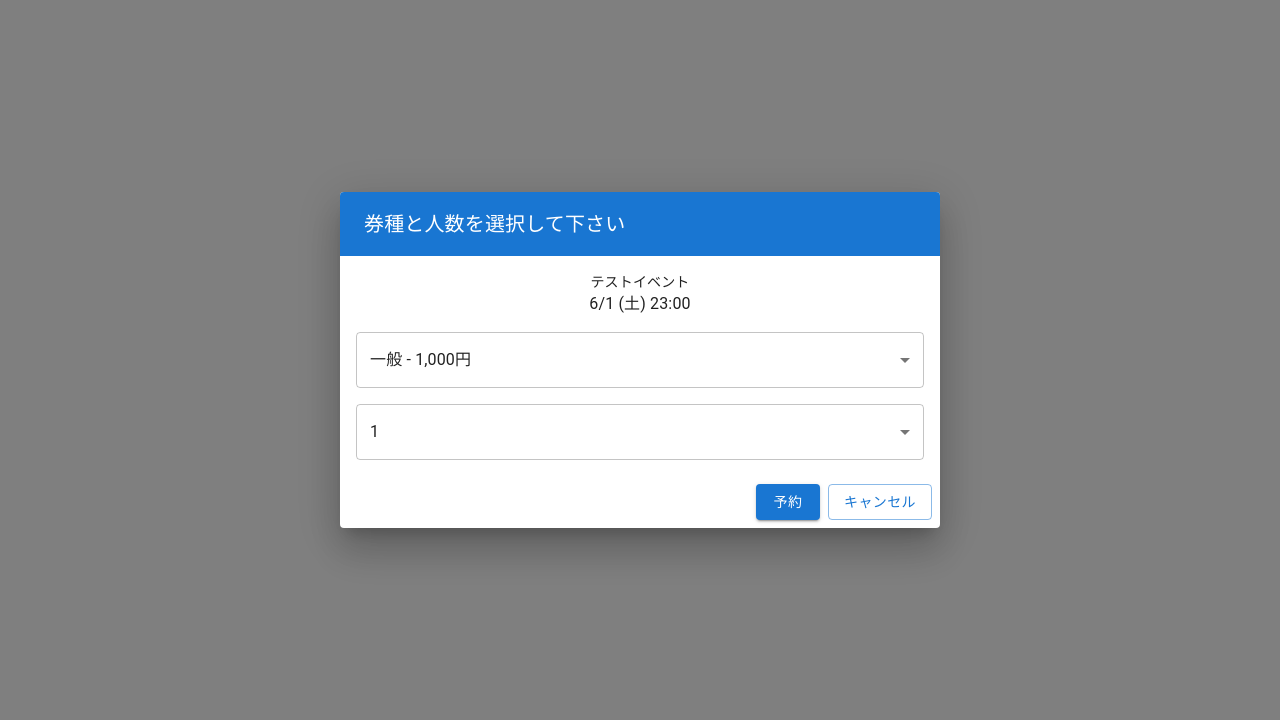
ReservationCreater › 予約ボタンをクリックすると確認フェーズに遷移する
Step 1. Click the button "予約" → (788, 502), box x1=756 y1=484 x2=820 y2=520
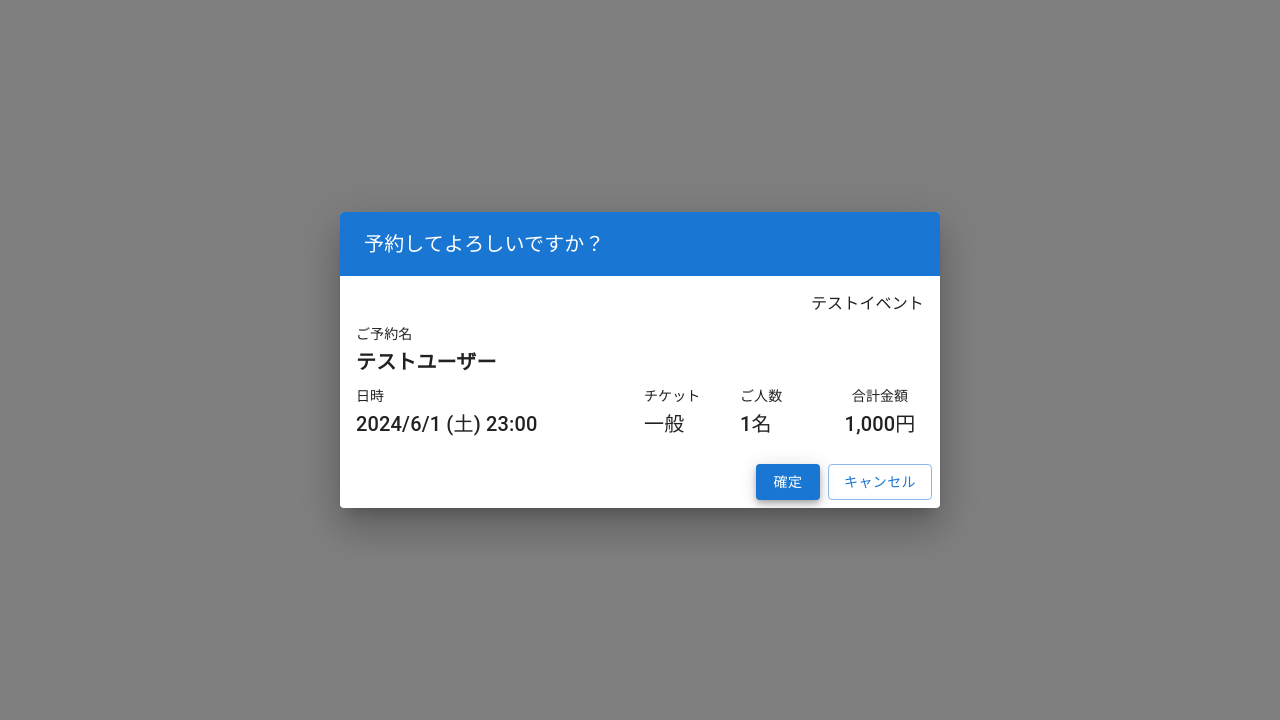
Expected: the text "予約してよろしいですか？" is shown, x1=364 y1=232 x2=605 y2=256
Expected: the button "確定" is shown, x1=756 y1=464 x2=820 y2=500
